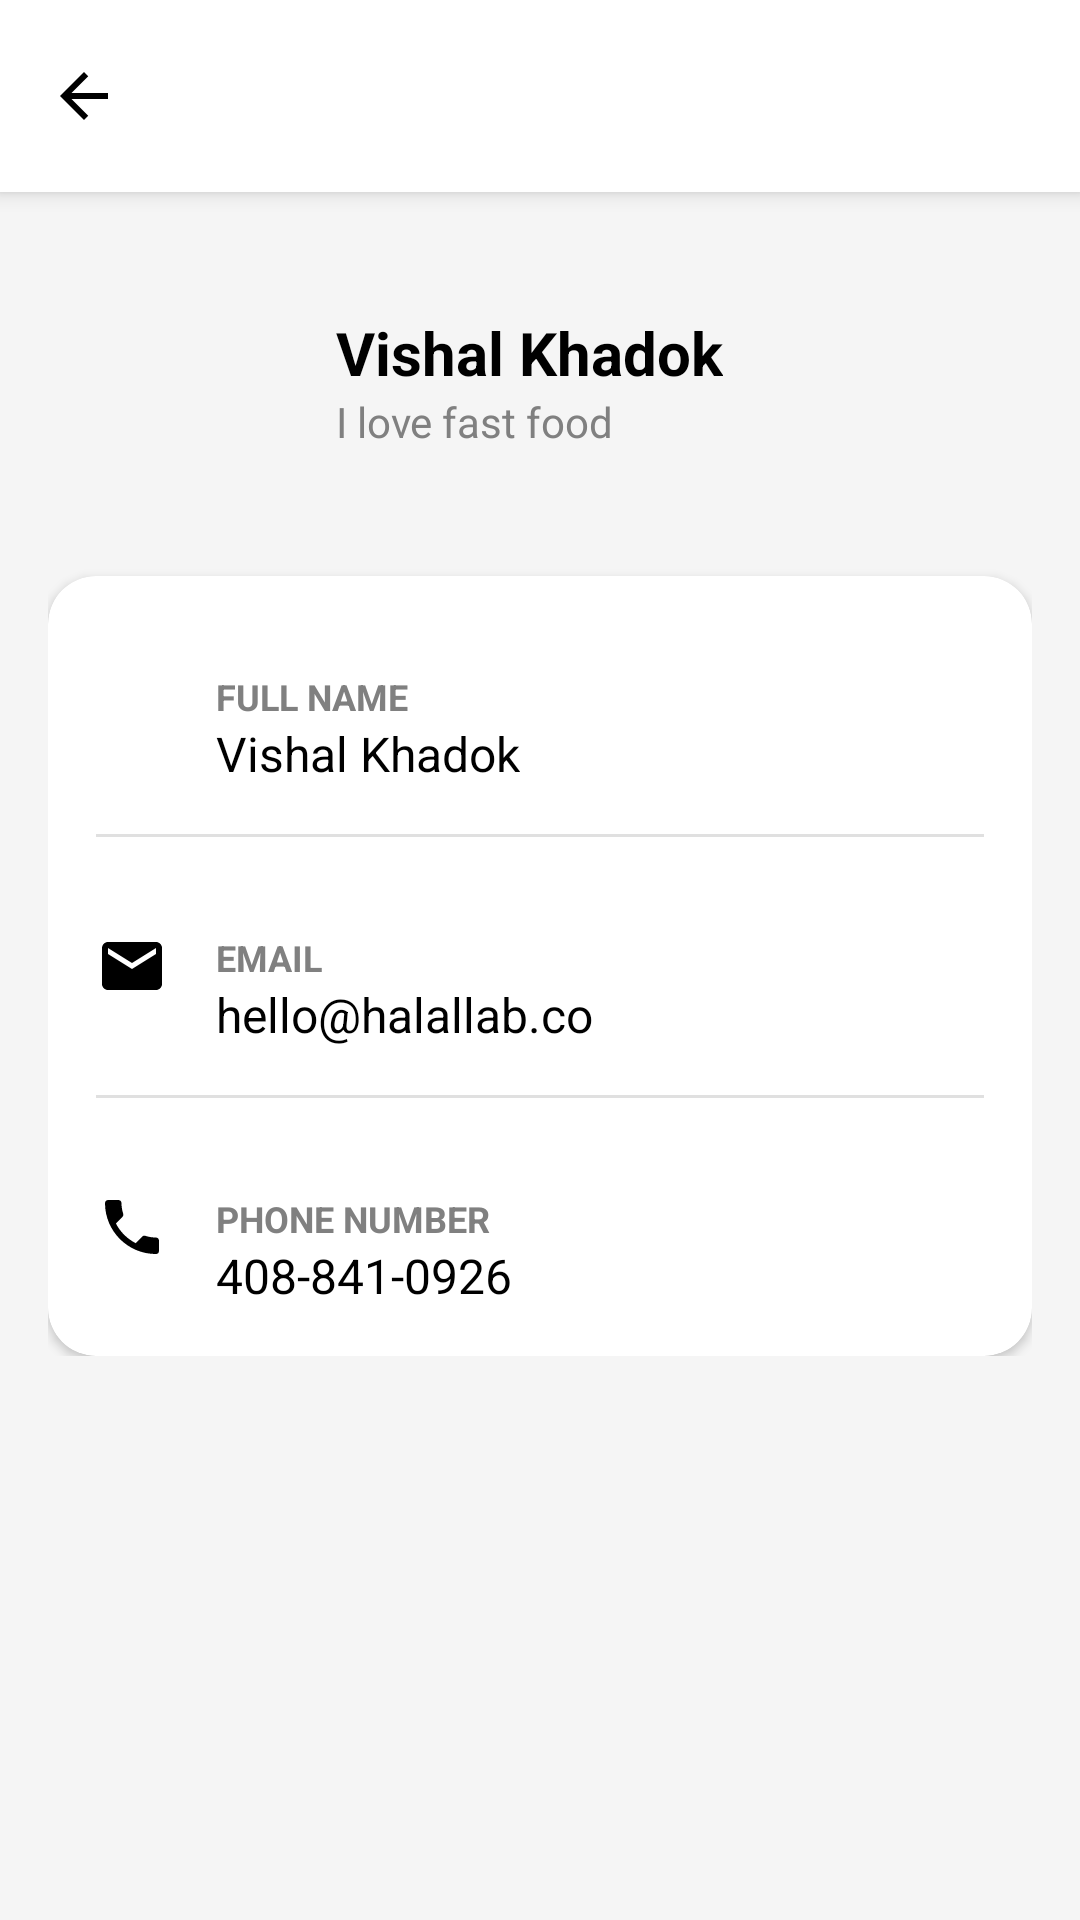

Where icons sit on this 1080*1920 app screen, as (x1,y1,x2,y2):
Back button: (60,72,108,120)
